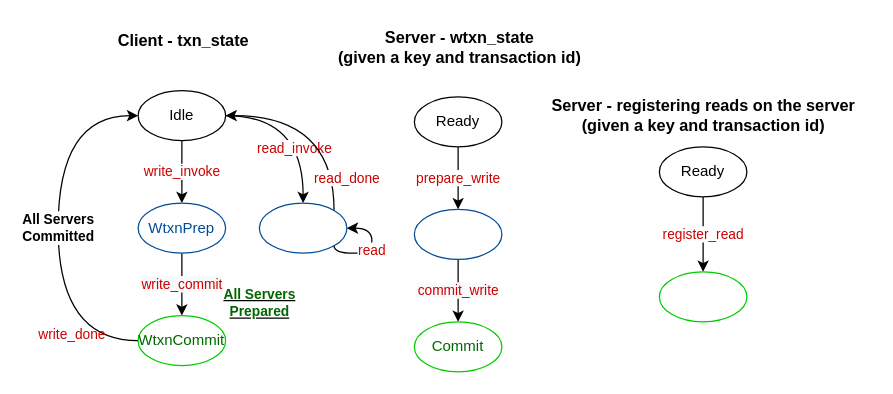
Some shapes in this 893 by 394 pixel diagram are drawn without their labels. The box of each missing label's shape, as (x1, y1, x2, y2) in pixels:
Prep: (413, 208, 502, 259)
Registered: (658, 271, 747, 322)
RtxnInProg: (258, 202, 347, 253)
